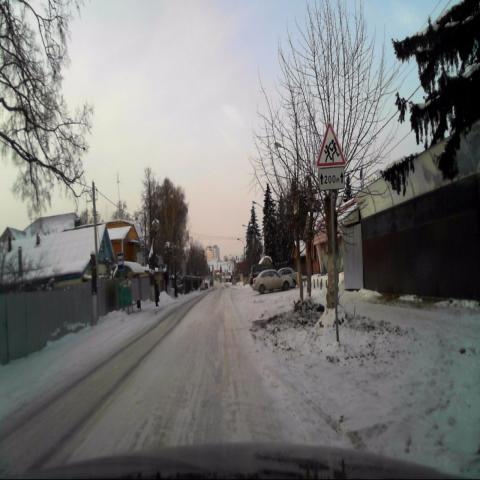8_2_1: (320, 168, 346, 191)
